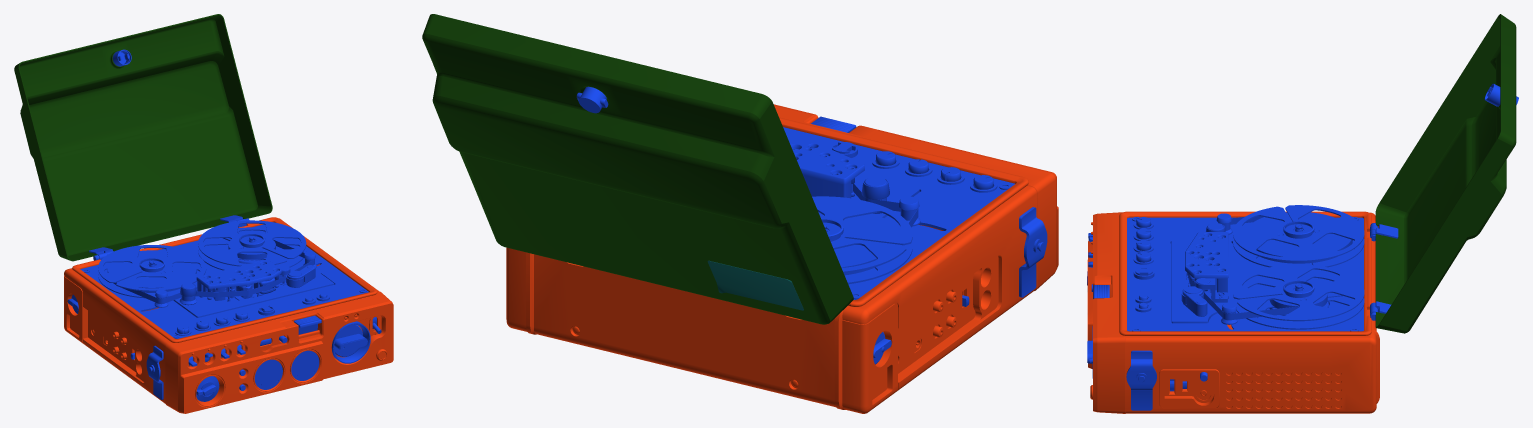
File: Sony(Triangulate).fbx
3 renders of one model, left to right at view 1: azimuth 30°, elevation 25°; view 2: azimuth 150°, elevation 25°; view 3: azimuth 270°, elevation 25°, orthographic. The views are drawn at different scales.
Parts seen in each view (by area): view 1: Sony_b, Sony_a, Object008; view 2: Sony_b, Sony_a, Object008; view 3: Sony_a, Sony_b, Object008.
Boxes of the visible parts, x1,y1,x2,y2 form: Sony_b: (14,14,272,261); Sony_a: (64,217,393,413); Object008: (107,239,275,292); Sony_b: (422,14,853,324); Sony_a: (506,104,1058,413); Object008: (818,212,893,275); Sony_a: (1087,205,1379,413); Sony_b: (1370,14,1518,333); Object008: (1247,212,1352,308).
Bounding box in the file's own units: 32.58 × 31.13 × 42.6.
